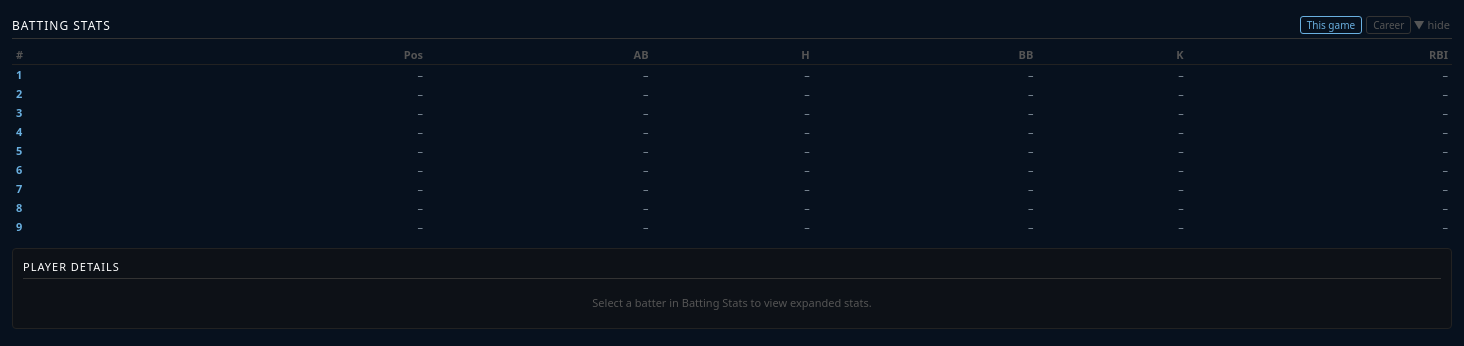
Test: PlayerStatsPanel › batting-stats-table data-testid is absent when collapsed
This screenshot has width=1464, height=346.
Click the button with aria-label "collapse batting stats" at (1432,24), box [1411,17,1452,32]
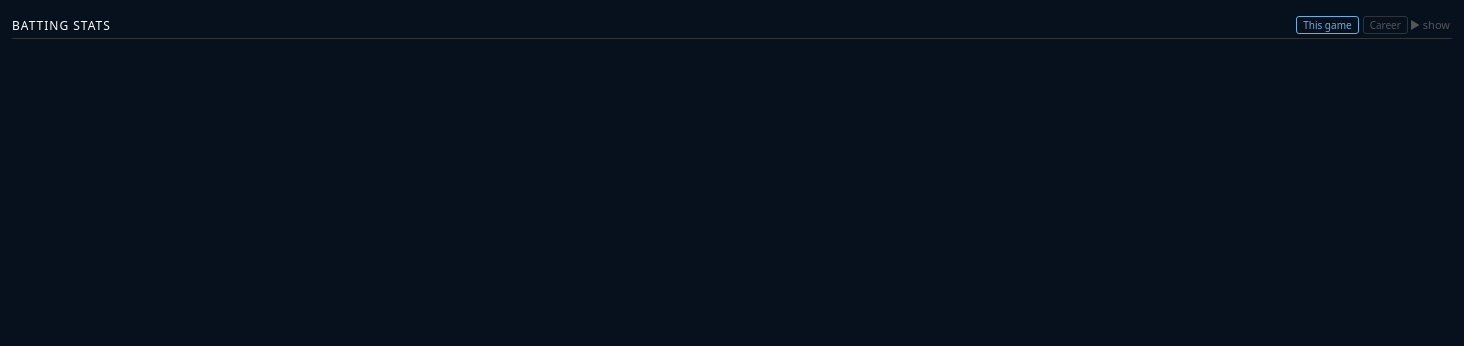
Now the table with test id "batting-stats-table" is gone
